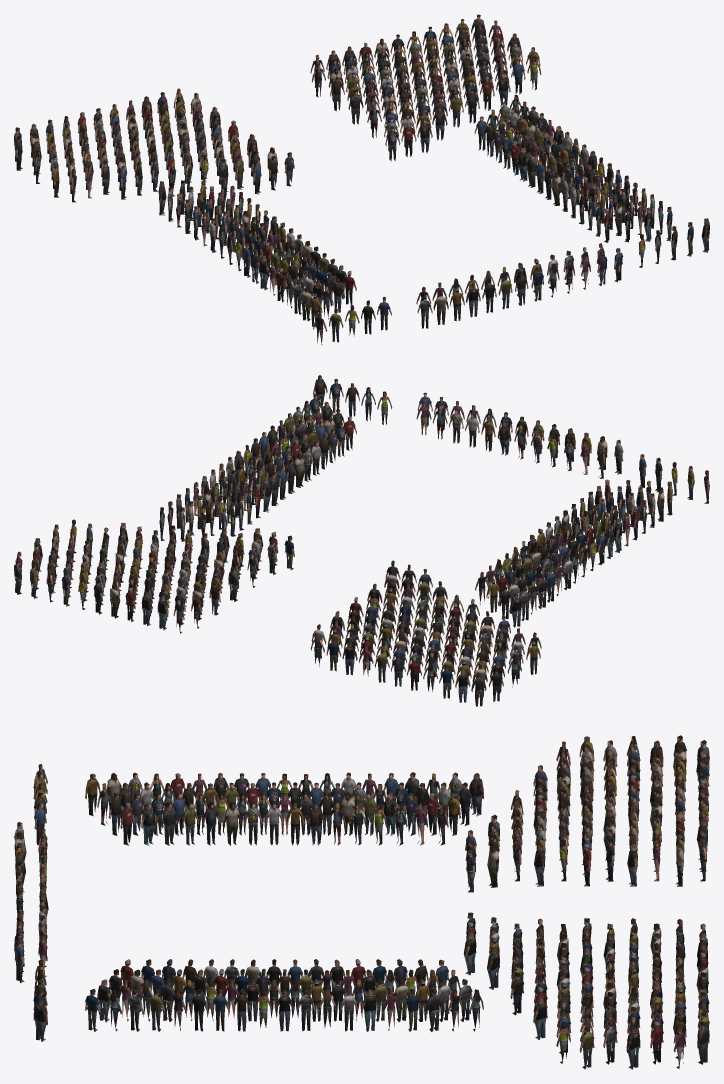
Rendered from smackdown_crowd_lod100.glb.
The picture shows the model from 3 angles, top to bottom: view 1: azimuth 30°, elevation 25°; view 2: azimuth 150°, elevation 25°; view 3: azimuth 270°, elevation 25°; orthographic projection. The views are drawn at different scales.
Visible parts, largest first — view 1: Crowd; view 2: Crowd; view 3: Crowd.
Boxes of the visible parts, bbox=[...] form: Crowd: bbox=[14, 14, 709, 345]; Crowd: bbox=[14, 375, 709, 706]; Crowd: bbox=[14, 735, 709, 1069].
Size of the model in its own units: 30.21 by 1.97 by 29.92.
Materials: 20 (20 with a texture image).
